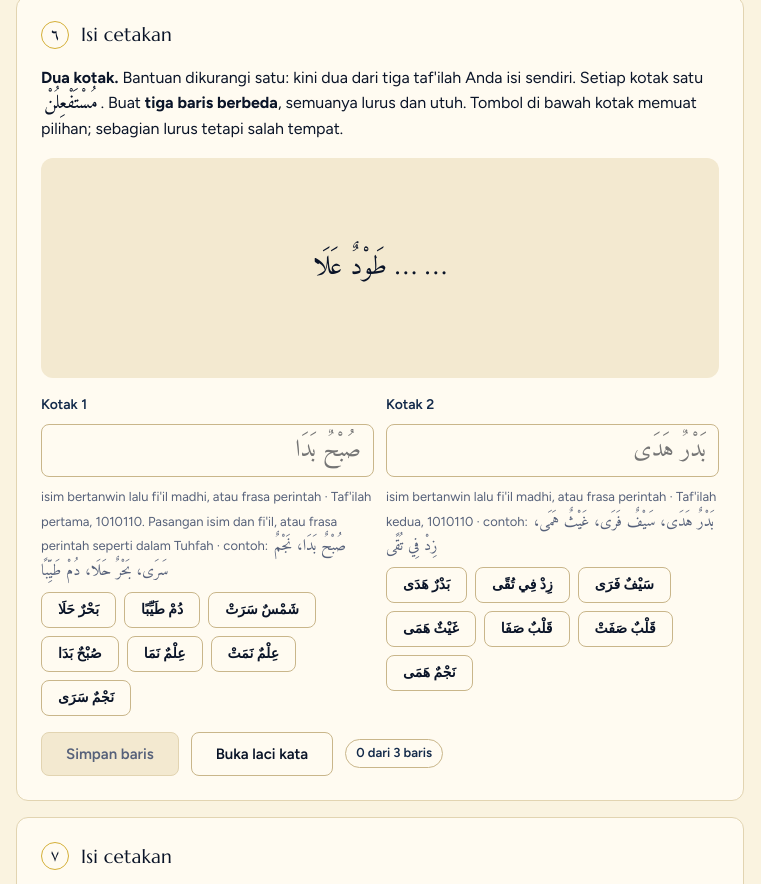
Test case: pelajaran 2: cetakan rajaz salim › cetakan dua kotak: baris dengan kata sendiri ditimbang langsung dan bisa disimpan bila lurus dan utuh
(page scrolled)
Type "عِلْمٌ نَمَا" into the field labelled "Kotak 1".
click(208, 450); type("عِلْمٌ نَمَا")  # box [41,424,374,477]
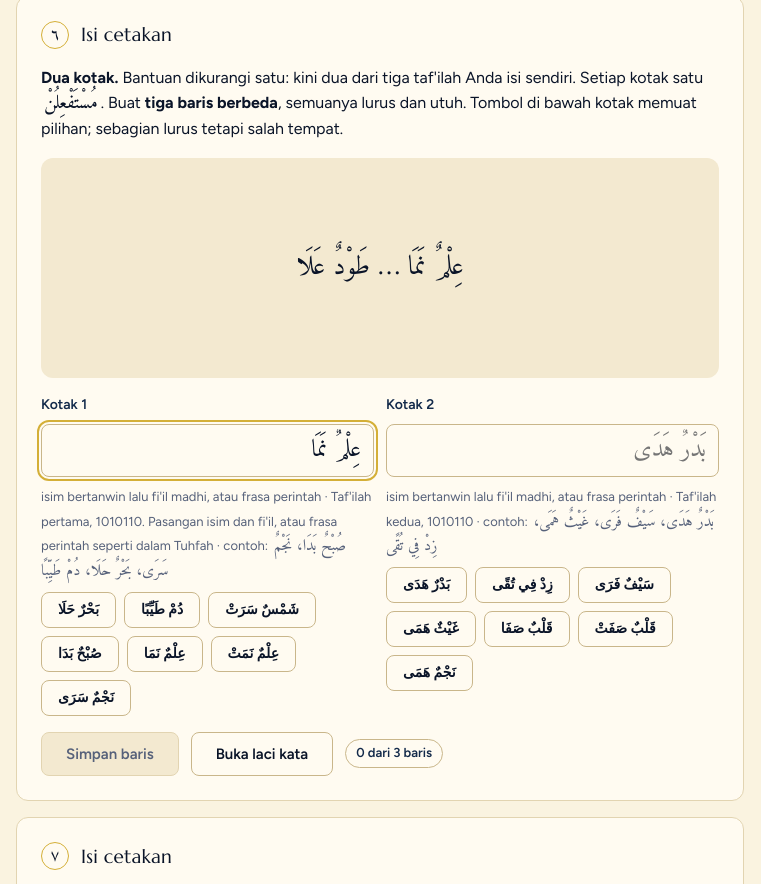
Type "قَلْبٌ صَفَا" into the field labelled "Kotak 2".
click(552, 450); type("قَلْبٌ صَفَا")  # box [386,424,719,477]
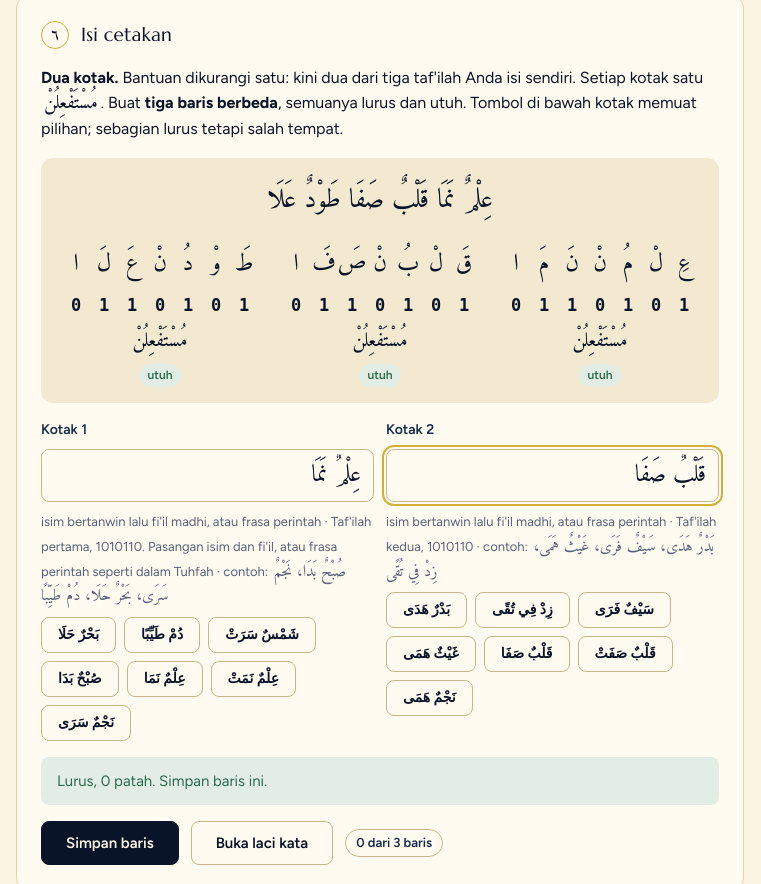
Check: the text "Lurus, 0 patah. Simpan baris ini." is shown, box [41,757,719,805]
Click the button "Simpan baris".
click(110, 843)  # box [41,821,179,865]
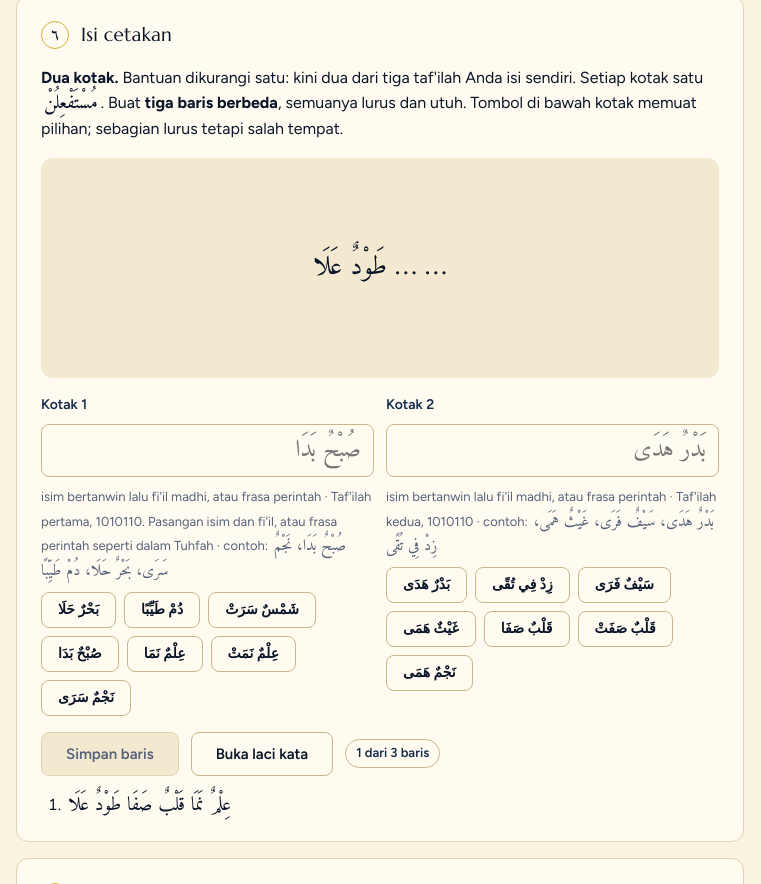
Check: the text "1 dari 3 baris" is shown, box [345,740,440,768]
